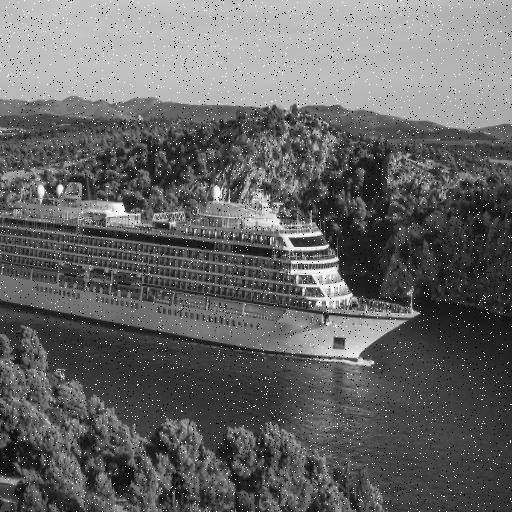cruises: (1, 171, 423, 374)
